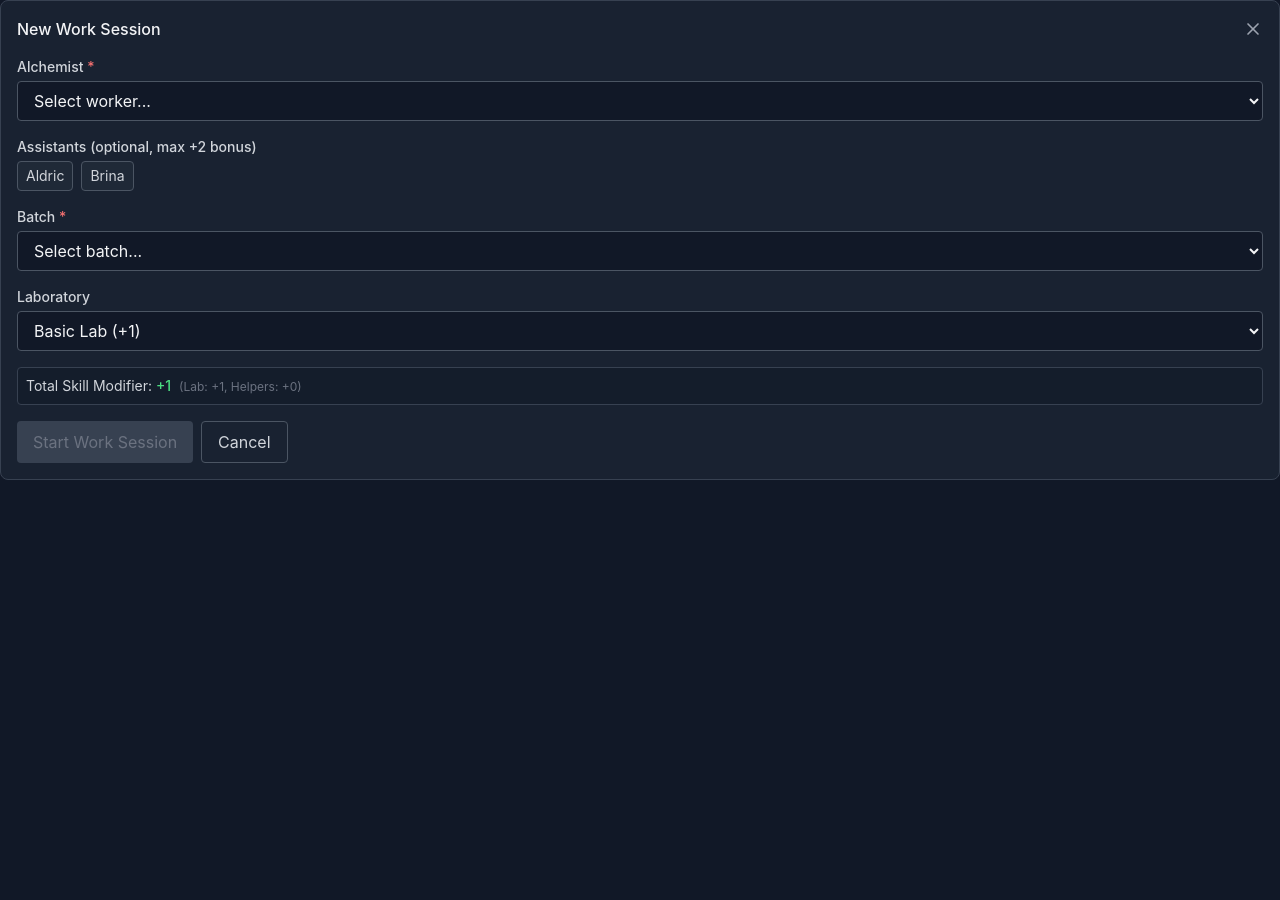
Test: AlchemyTaskForm › batch details display › shows batch details when batch is selected
# Select a batch
Select "Healing Potion (5/10 PP)" in the dropdown with test id "batch-select": (640, 251) [17,231,1263,271]
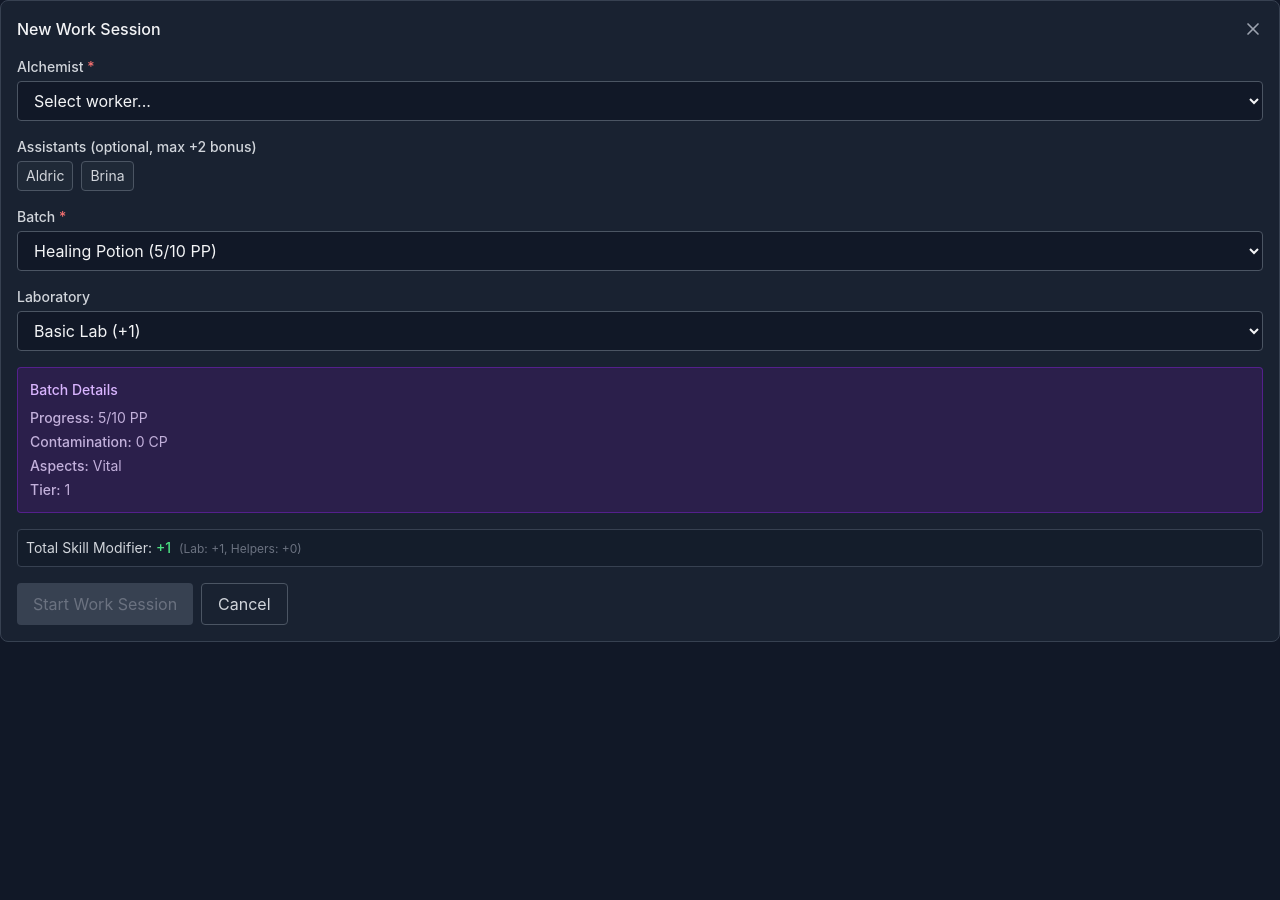
Now the element with test id "batch-details" is shown, box [17,367,1263,513]
Now the text "Progress:" is shown, box [30,409,94,426]
